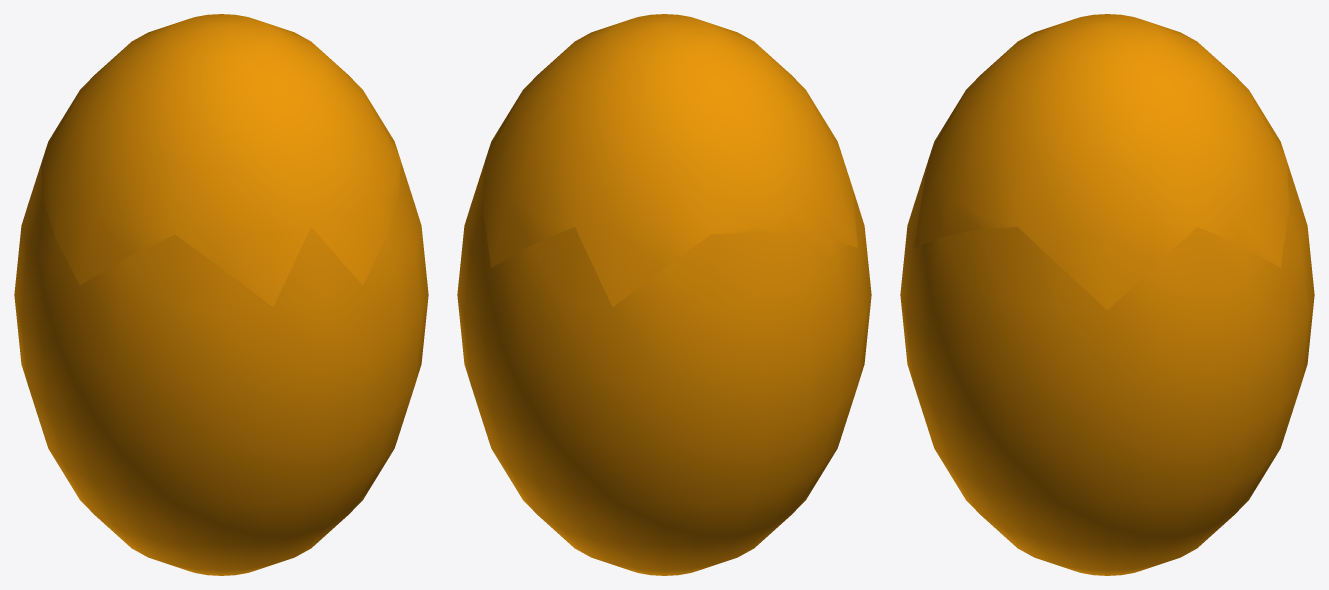
The model's file is Yumurta_animasyon.fbx.
3 renders of one model, left to right at view 1: azimuth 30°, elevation 25°; view 2: azimuth 150°, elevation 25°; view 3: azimuth 270°, elevation 25°, orthographic.
Visible parts, largest first — view 1: Sphere; view 2: Sphere; view 3: Sphere.
Boxes of the visible parts, box(x1,y1,x2,y2) form: Sphere: box(14, 14, 428, 575); Sphere: box(457, 14, 871, 575); Sphere: box(900, 14, 1314, 575).
Bounding box in the file's own units: 200 × 285 × 200.
